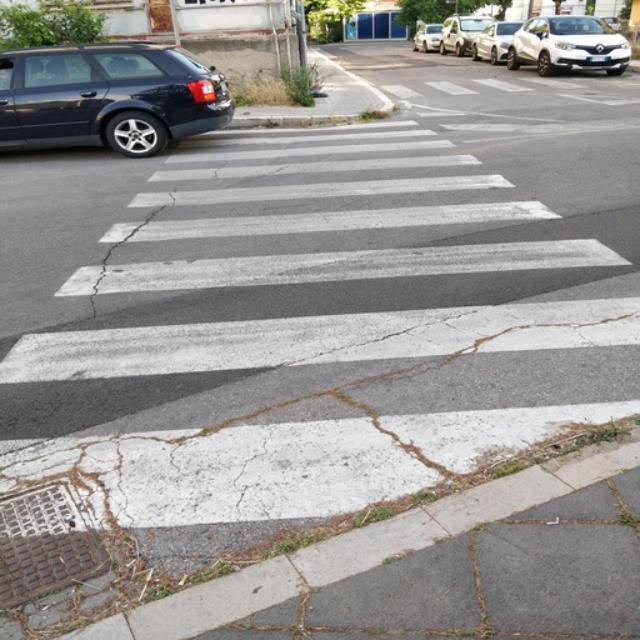sidewalk: (0, 115, 640, 532)
